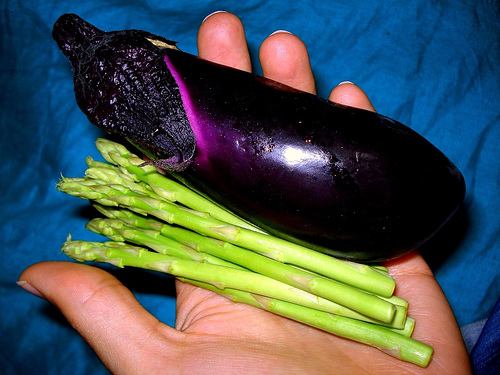eggplant: (46, 9, 467, 263)
